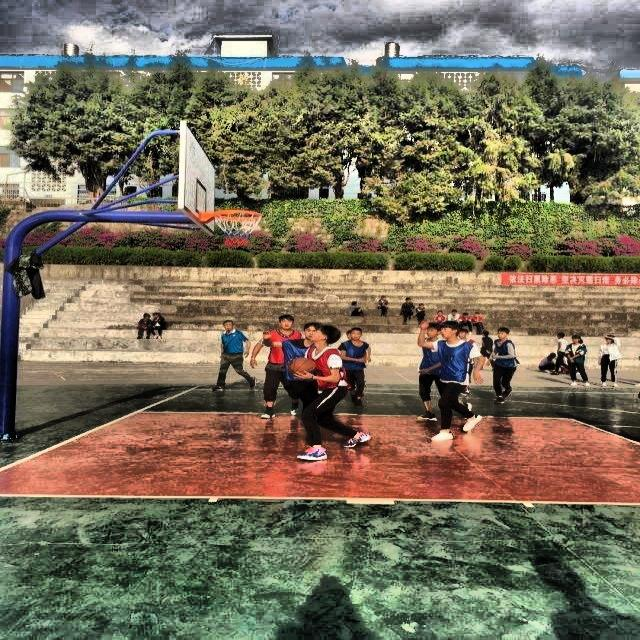rim: (213, 208, 262, 247)
